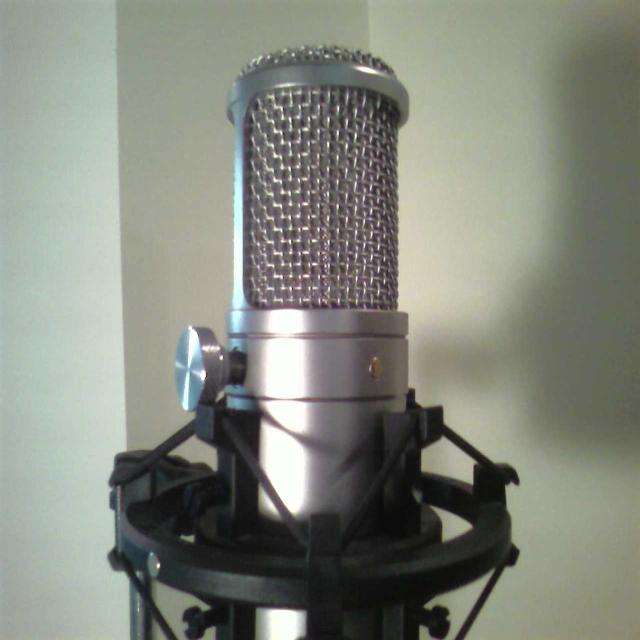microphone: (114, 42, 522, 640)
